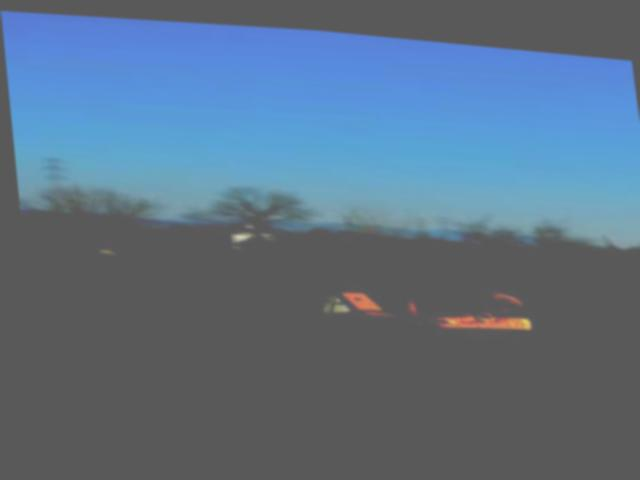iha: (303, 261, 538, 334)
